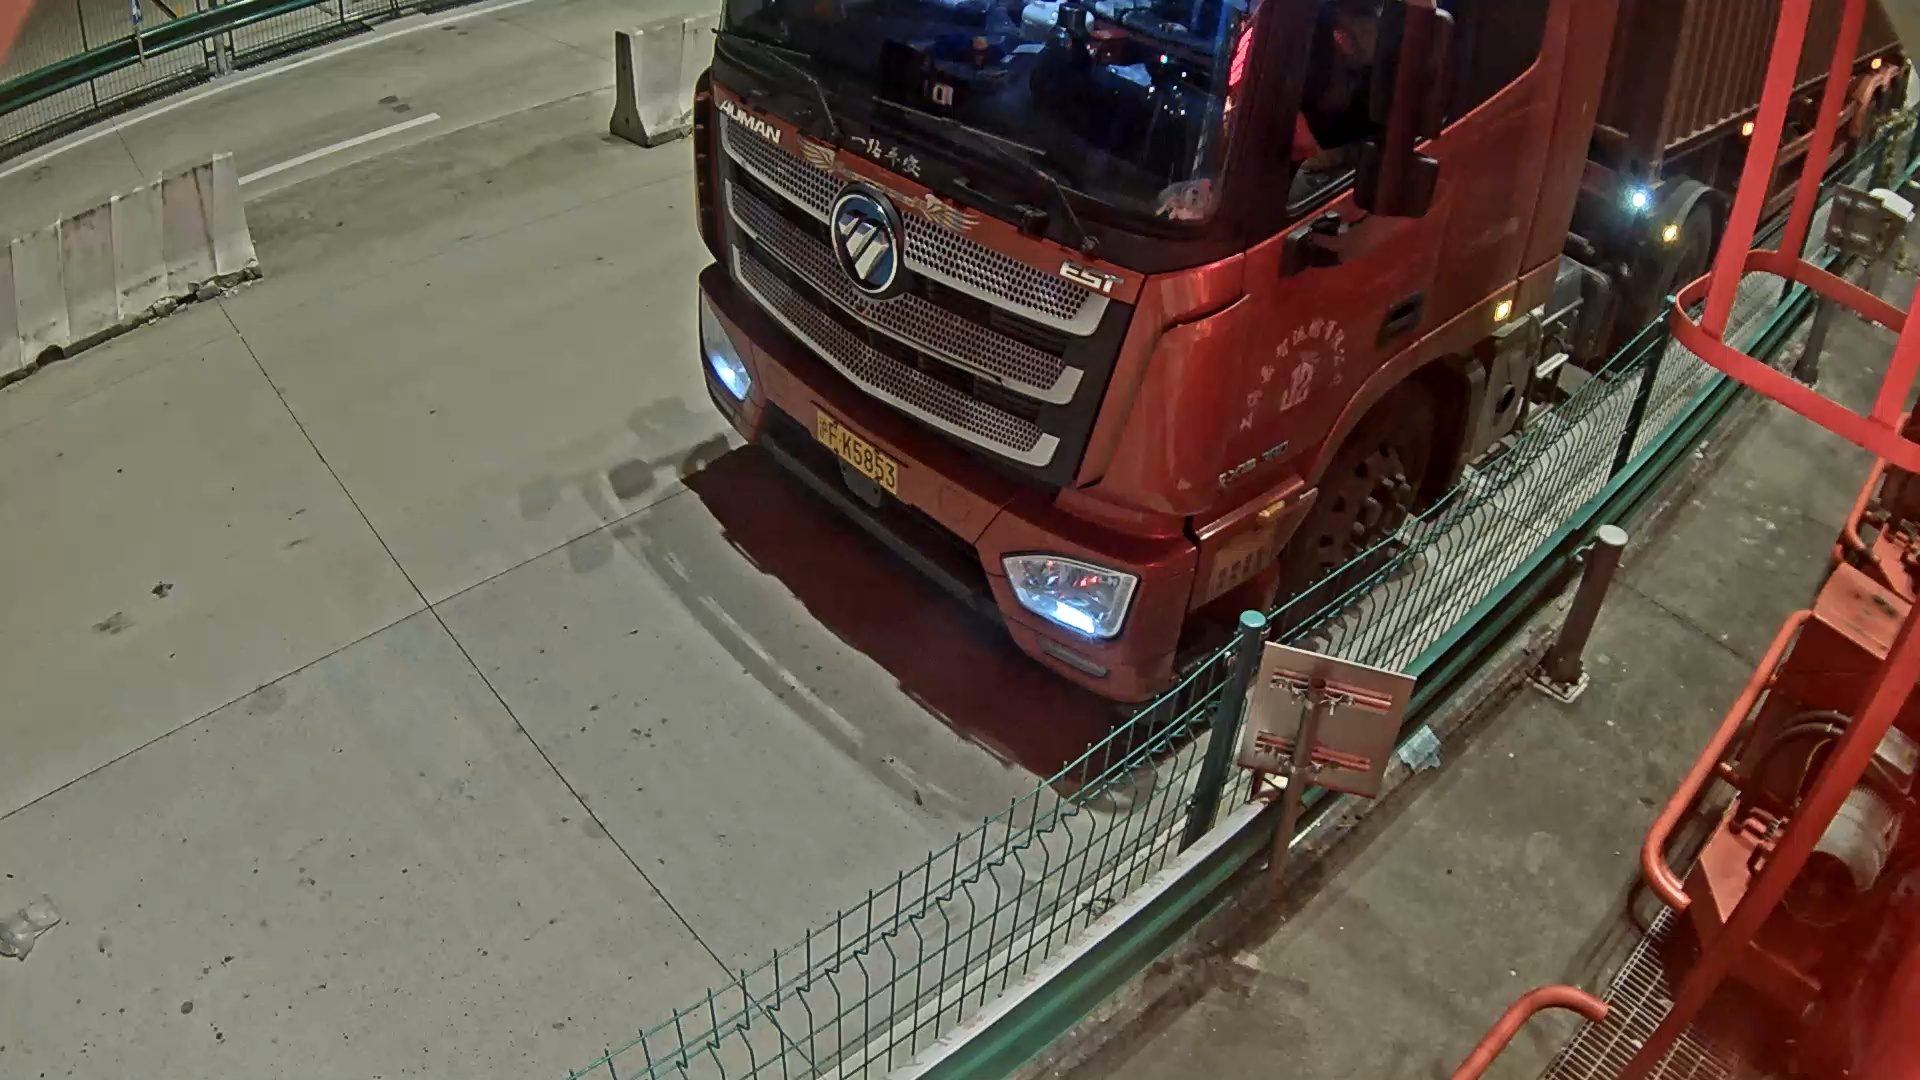head: (691, 1, 1621, 700)
plate: (807, 400, 898, 494)
